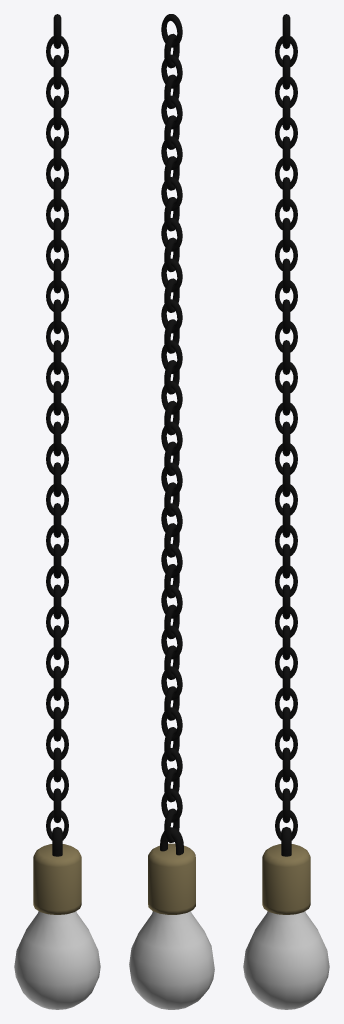
The model's file is LIGHT_ON_CHAIN.obj.
3 renders of one model, left to right at view 1: azimuth 90°, elevation 25°; view 2: azimuth 150°, elevation 25°; view 3: azimuth 270°, elevation 25°, orthographic.
Parts seen in each view (by area): view 1: lightbulb.001; view 2: lightbulb.001; view 3: lightbulb.001.
Boxes of the visible parts, x1=… form: lightbulb.001: x1=14, y1=14, x2=100, y2=1009; lightbulb.001: x1=129, y1=14, x2=214, y2=1009; lightbulb.001: x1=243, y1=14, x2=329, y2=1009.
Size of the model in its own units: 2 by 25.32 by 2.
